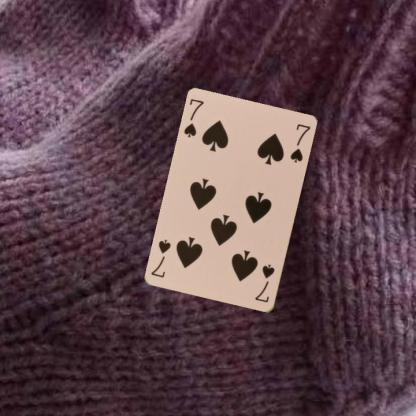7s: (181, 96, 206, 139), (253, 262, 276, 304)
